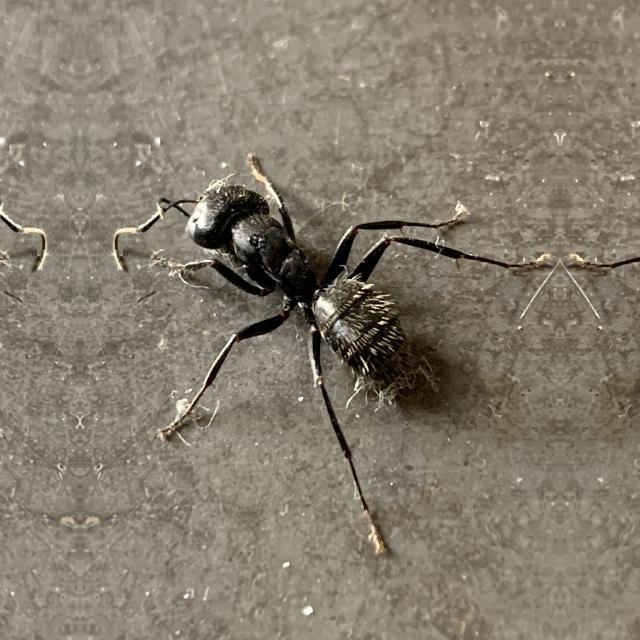Camponotus: (148, 137, 448, 443)
